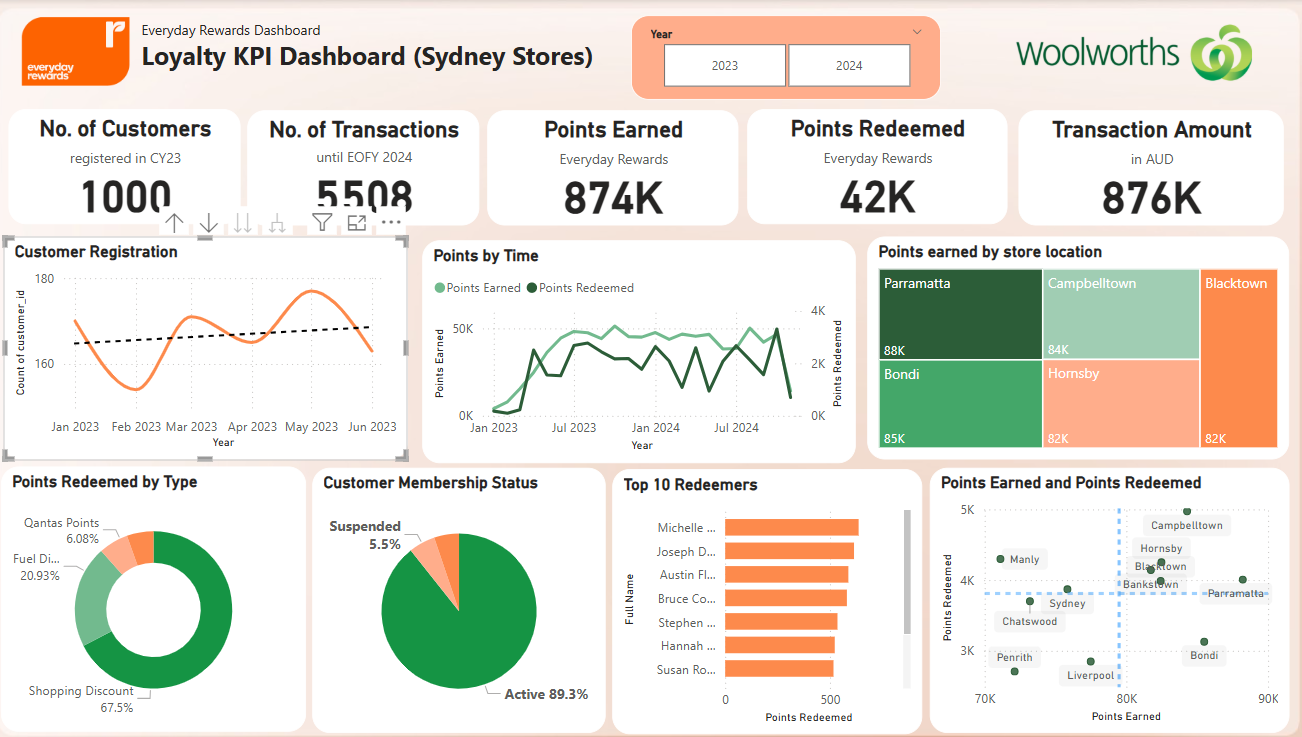

The dashboard page shown, as its layout file describes it:
{"tool":"powerbi","page":{"name":"Woolworths Dashboard","canvas":[1280,720],"ordinal":0},"visuals":[{"type":"card","title":"No. of Customers","fields":{"Values":["wool_customers1.customer_id"]},"box":[22.1,106.6,224.2,111.2],"z":0},{"type":"card","title":"No. of Transactions","fields":{"Values":["wool_transactions2.transaction_id"]},"box":[252.7,107.5,224.2,111.2],"z":1000},{"type":"card","title":"Points Earned","fields":{"Values":["wool_transactions2.points_earned"]},"box":[484.2,107.5,242.6,111.2],"z":2000},{"type":"card","title":"Points Redeemed","fields":{"Values":["wool_transactions2.points_redeemed"]},"box":[735.1,106.6,250.9,111.2],"z":3000},{"type":"card","title":"Transaction Amount","fields":{"Values":["wool_transactions2.transaction_amount"]},"box":[997,107.5,256.4,111.2],"z":4000},{"type":"lineChart","title":"Customer Registration","fields":{"Y":["wool_customers1.customer_id"],"Category":["wool_customers1.registration_date.Variation.Date Hierarchy.Year","wool_customers1.registration_date.Variation.Date Hierarchy.Month"]},"box":[16.5,229.7,390.5,215],"z":5000},{"type":"lineChart","title":"Points by Time","fields":{"Y":["wool_transactions2.points_earned"],"Category":["wool_transactions2.transaction_date.Variation.Date Hierarchy.Year","wool_transactions2.transaction_date.Variation.Date Hierarchy.Month"],"Y2":["wool_transactions2.points_redeemed"]},"box":[420.8,232.5,418.1,215],"z":6000},{"type":"treemap","title":"Points earned by store location","fields":{"Group":["wool_transactions2.store_location"],"Values":["wool_transactions2.points_earned"]},"box":[850.9,229.7,407.1,215],"z":7000},{"type":"donutChart","title":"Points Redeemed by Type","fields":{"Y":["wool_transactions2.points_redeemed"],"Category":["wool_transactions2.redemption_type"]},"box":[14.7,451.2,294,256.4],"z":8000},{"type":"pieChart","title":"Customer Membership Status","fields":{"Category":["wool_customers1.membership_status"],"Y":["wool_customers1.membership_status"]},"box":[315.2,453,283,256.4],"z":9000},{"type":"barChart","title":"Top 10 Redeemers","fields":{"Category":["wool_customers1.full_name"],"Y":["wool_transactions2.points_redeemed"]},"box":[604.6,453.9,299.6,256.4],"z":10000},{"type":"scatterChart","title":"Points Earned and Points Redeemed","fields":{"Category":["wool_transactions2.store_location"],"X":["wool_transactions2.points_earned"],"Y":["wool_transactions2.points_redeemed"]},"box":[910.6,452.1,347.3,256.4],"z":11000},{"type":"slicer","fields":{"Values":["wool_transactions2.transaction_date.Variation.Date Hierarchy.Year"]},"box":[622.1,15.6,299.6,81.8],"z":12000},{"type":"image","box":[29.4,0,115.8,101.1],"z":13000},{"type":"textbox","box":[145.2,15.6,459.4,72.6],"z":14000},{"type":"image","box":[958.4,11,299.6,81.8],"z":15000}]}

Visuals, with their boxes in screenshot pixels (x1, y1, x2, y2), scaled from the page's 1280x720 canvas onto the 1302x737 screenshot:
"No. of Customers" card: rect(22, 109, 251, 223)
"No. of Transactions" card: rect(257, 110, 485, 224)
"Points Earned" card: rect(493, 110, 739, 224)
"Points Redeemed" card: rect(748, 109, 1003, 223)
"Transaction Amount" card: rect(1014, 110, 1275, 224)
"Customer Registration" lineChart: rect(17, 235, 414, 455)
"Points by Time" lineChart: rect(428, 238, 853, 458)
"Points earned by store location" treemap: rect(866, 235, 1280, 455)
"Points Redeemed by Type" donutChart: rect(15, 462, 314, 724)
"Customer Membership Status" pieChart: rect(321, 464, 608, 726)
"Top 10 Redeemers" barChart: rect(615, 465, 920, 727)
"Points Earned and Points Redeemed" scatterChart: rect(926, 463, 1280, 725)
slicer - wool_transactions2.transaction_date.Variation.Date Hierarchy.Year: rect(633, 16, 938, 100)
image: rect(30, 0, 148, 103)
textbox: rect(148, 16, 615, 90)
image: rect(975, 11, 1280, 95)
